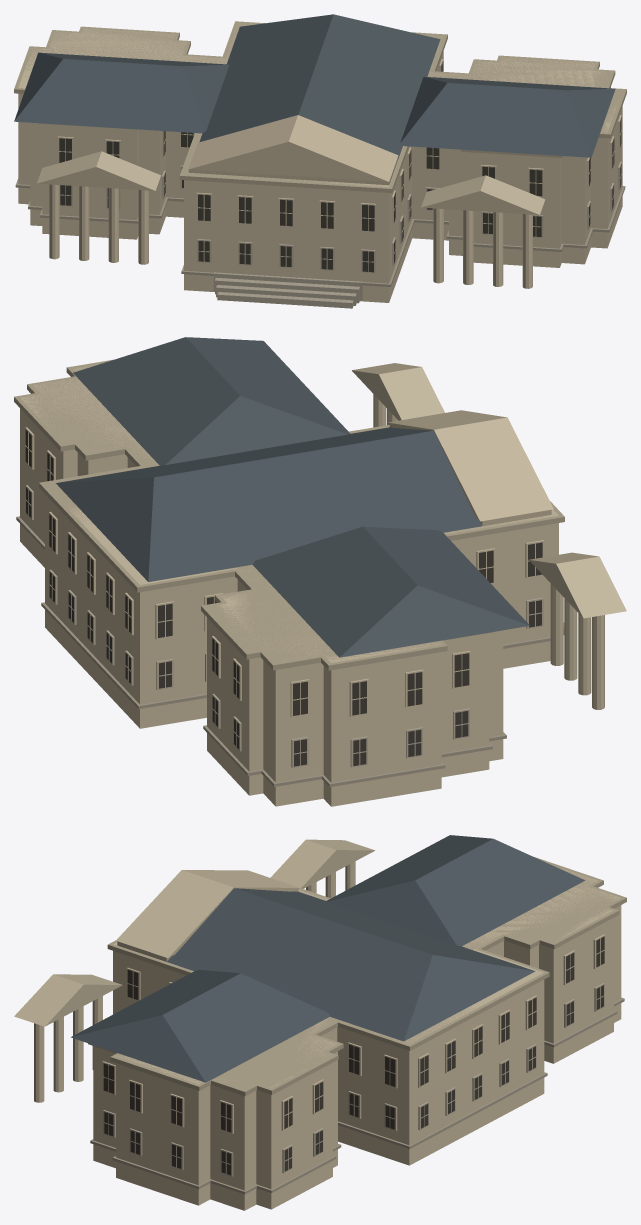
The model's file is virginia-state-capitol.glb.
3 renders of one model, top to bottom at view 1: azimuth 30°, elevation 25°; view 2: azimuth 150°, elevation 25°; view 3: azimuth 270°, elevation 25°, orthographic. The views are drawn at different scales.
Visible parts, largest first — view 1: body; view 2: body; view 3: body.
Part boxes in pixels (<box>): body: <box>14,14,626,308</box>; body: <box>14,337,626,806</box>; body: <box>14,835,626,1210</box>.
Bounding box in the file's own units: 81.58 × 22.6 × 77.94.
